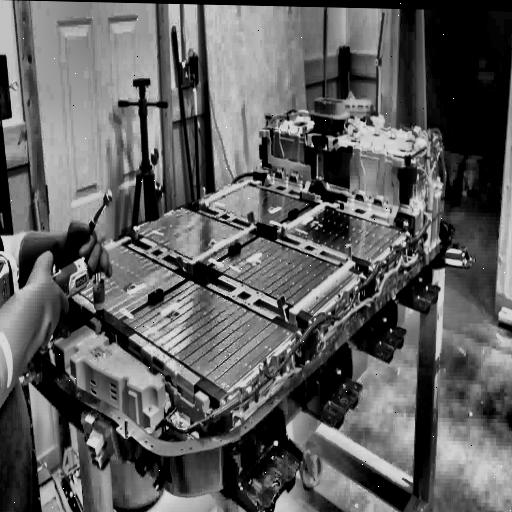battery_module: (123, 278, 294, 393), (210, 235, 359, 316), (53, 239, 186, 319), (276, 204, 403, 264), (136, 206, 257, 265), (197, 181, 309, 227)
busbar: (288, 242, 358, 326), (259, 129, 323, 205), (176, 223, 257, 275), (277, 199, 340, 239), (198, 179, 262, 210), (387, 158, 406, 226)
connector: (304, 95, 353, 153)
high_volt_cable: (234, 127, 442, 420)
low_volt_cable: (149, 127, 450, 436)
